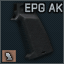AK Strike Industries Enhanced Pistol Grip Flat Dark Earth: (0, 0, 64, 64)
